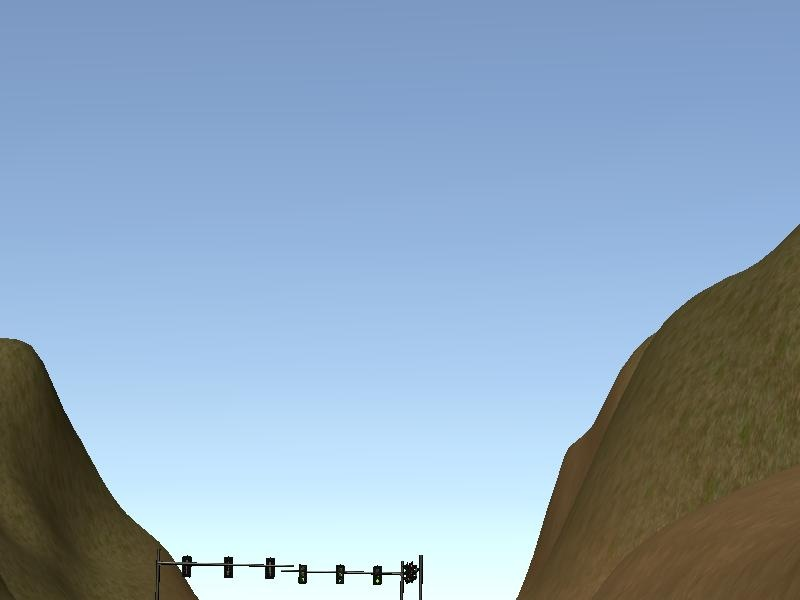traffic_light_green: (289, 565, 400, 587)
